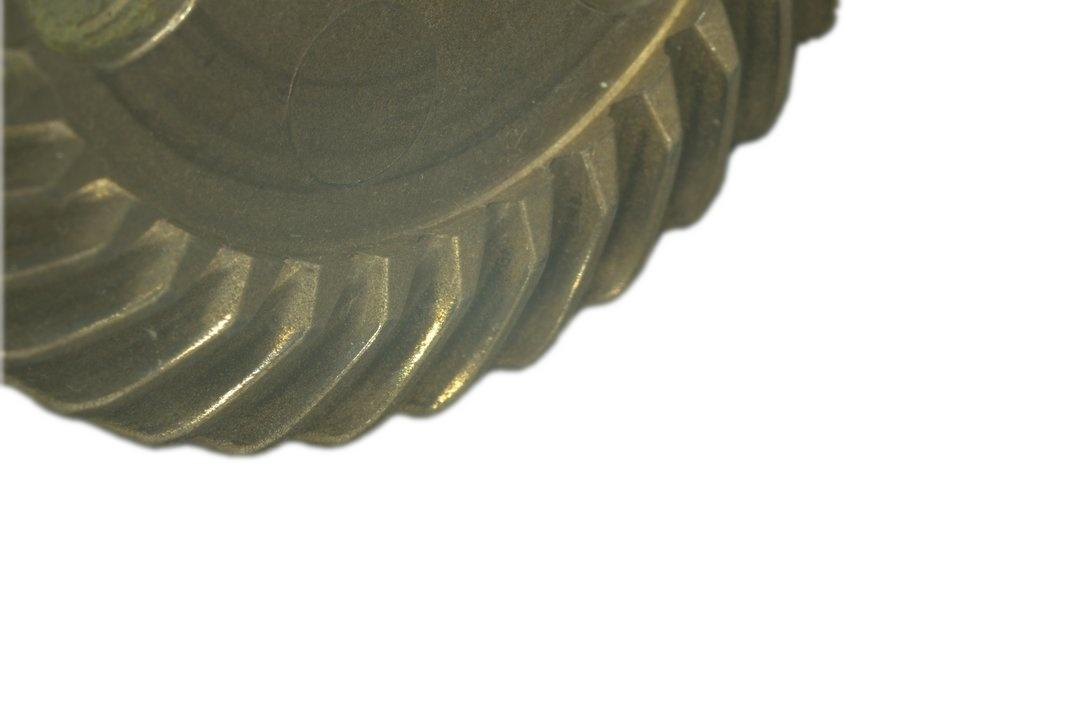defect: (188, 321, 310, 425), (133, 308, 237, 390), (432, 324, 501, 414), (393, 296, 461, 384), (556, 246, 599, 324)
